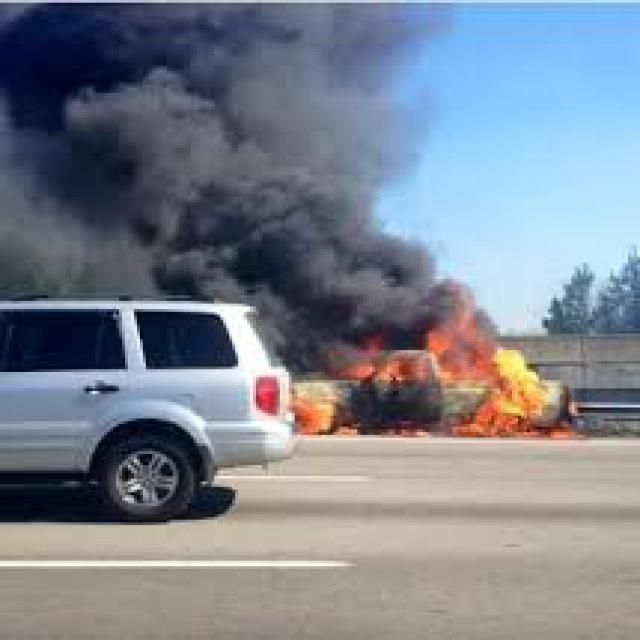fire: (296, 294, 579, 447)
